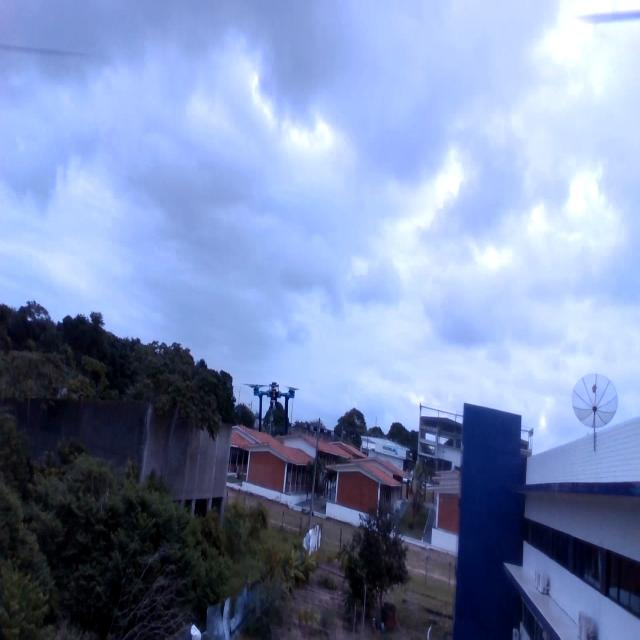-uav-: (240, 370, 305, 443)
